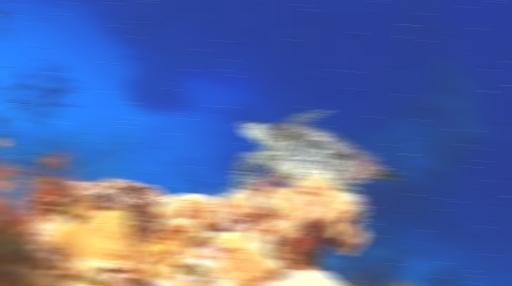Fish: (234, 110, 397, 216)
